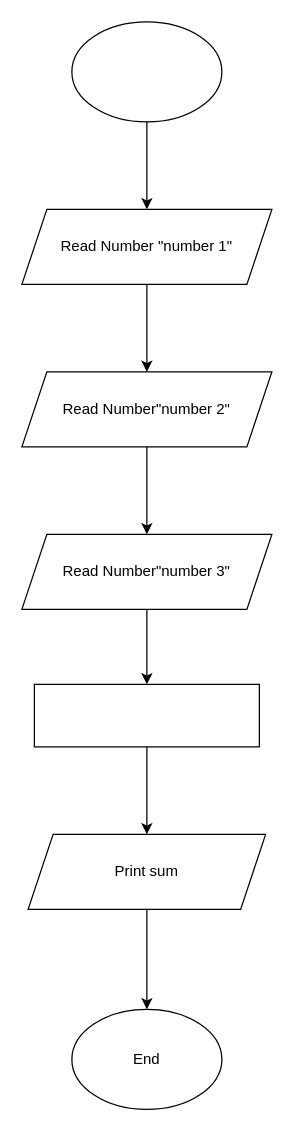
Some shapes in this 294 by 1131 pixel diagram are drawn without their labels. The shapes that lost their labels are listed below. From the top down, each one's centre as x and y in pixels, then its label:
At pixel 146 71: "start".
At pixel 146 715: "sum = num1 + num2 + num3".
